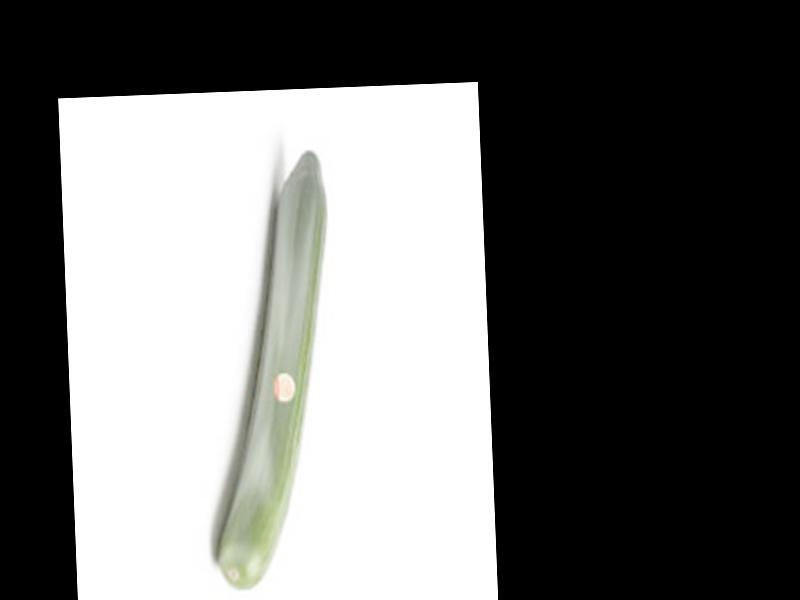Cucumber: (202, 150, 341, 593)
